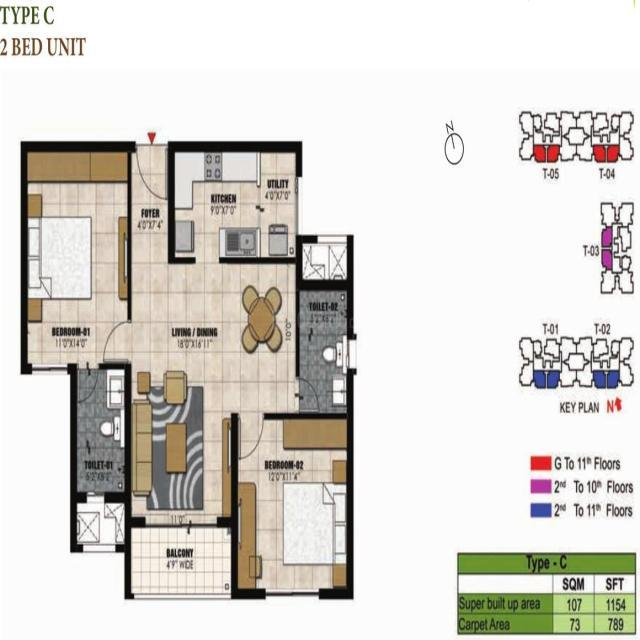Balcony-Sitout: (125, 521, 237, 598)
Bedroom: (21, 142, 133, 375), (233, 412, 354, 600)
Dining: (235, 278, 288, 368)
Enterance-Foyer: (133, 128, 169, 207)
Kitchen: (169, 142, 296, 264)
Living: (125, 354, 239, 531)
Toilet: (72, 365, 128, 504), (296, 288, 355, 418)
